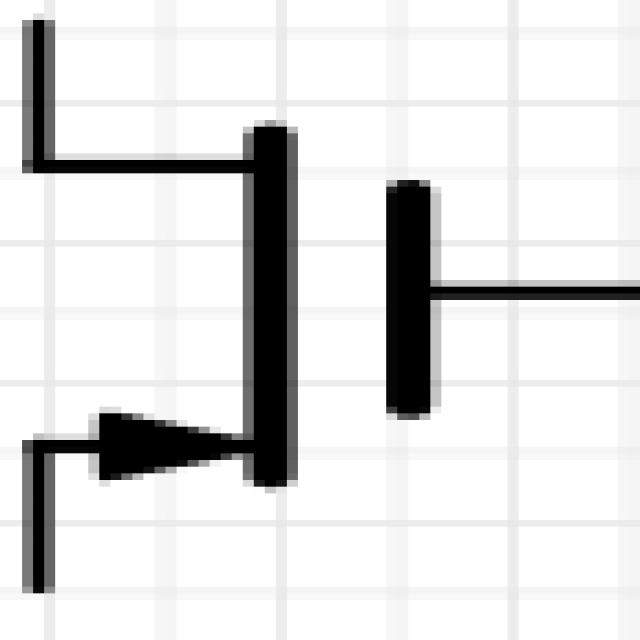pmos: (7, 14, 640, 605)
